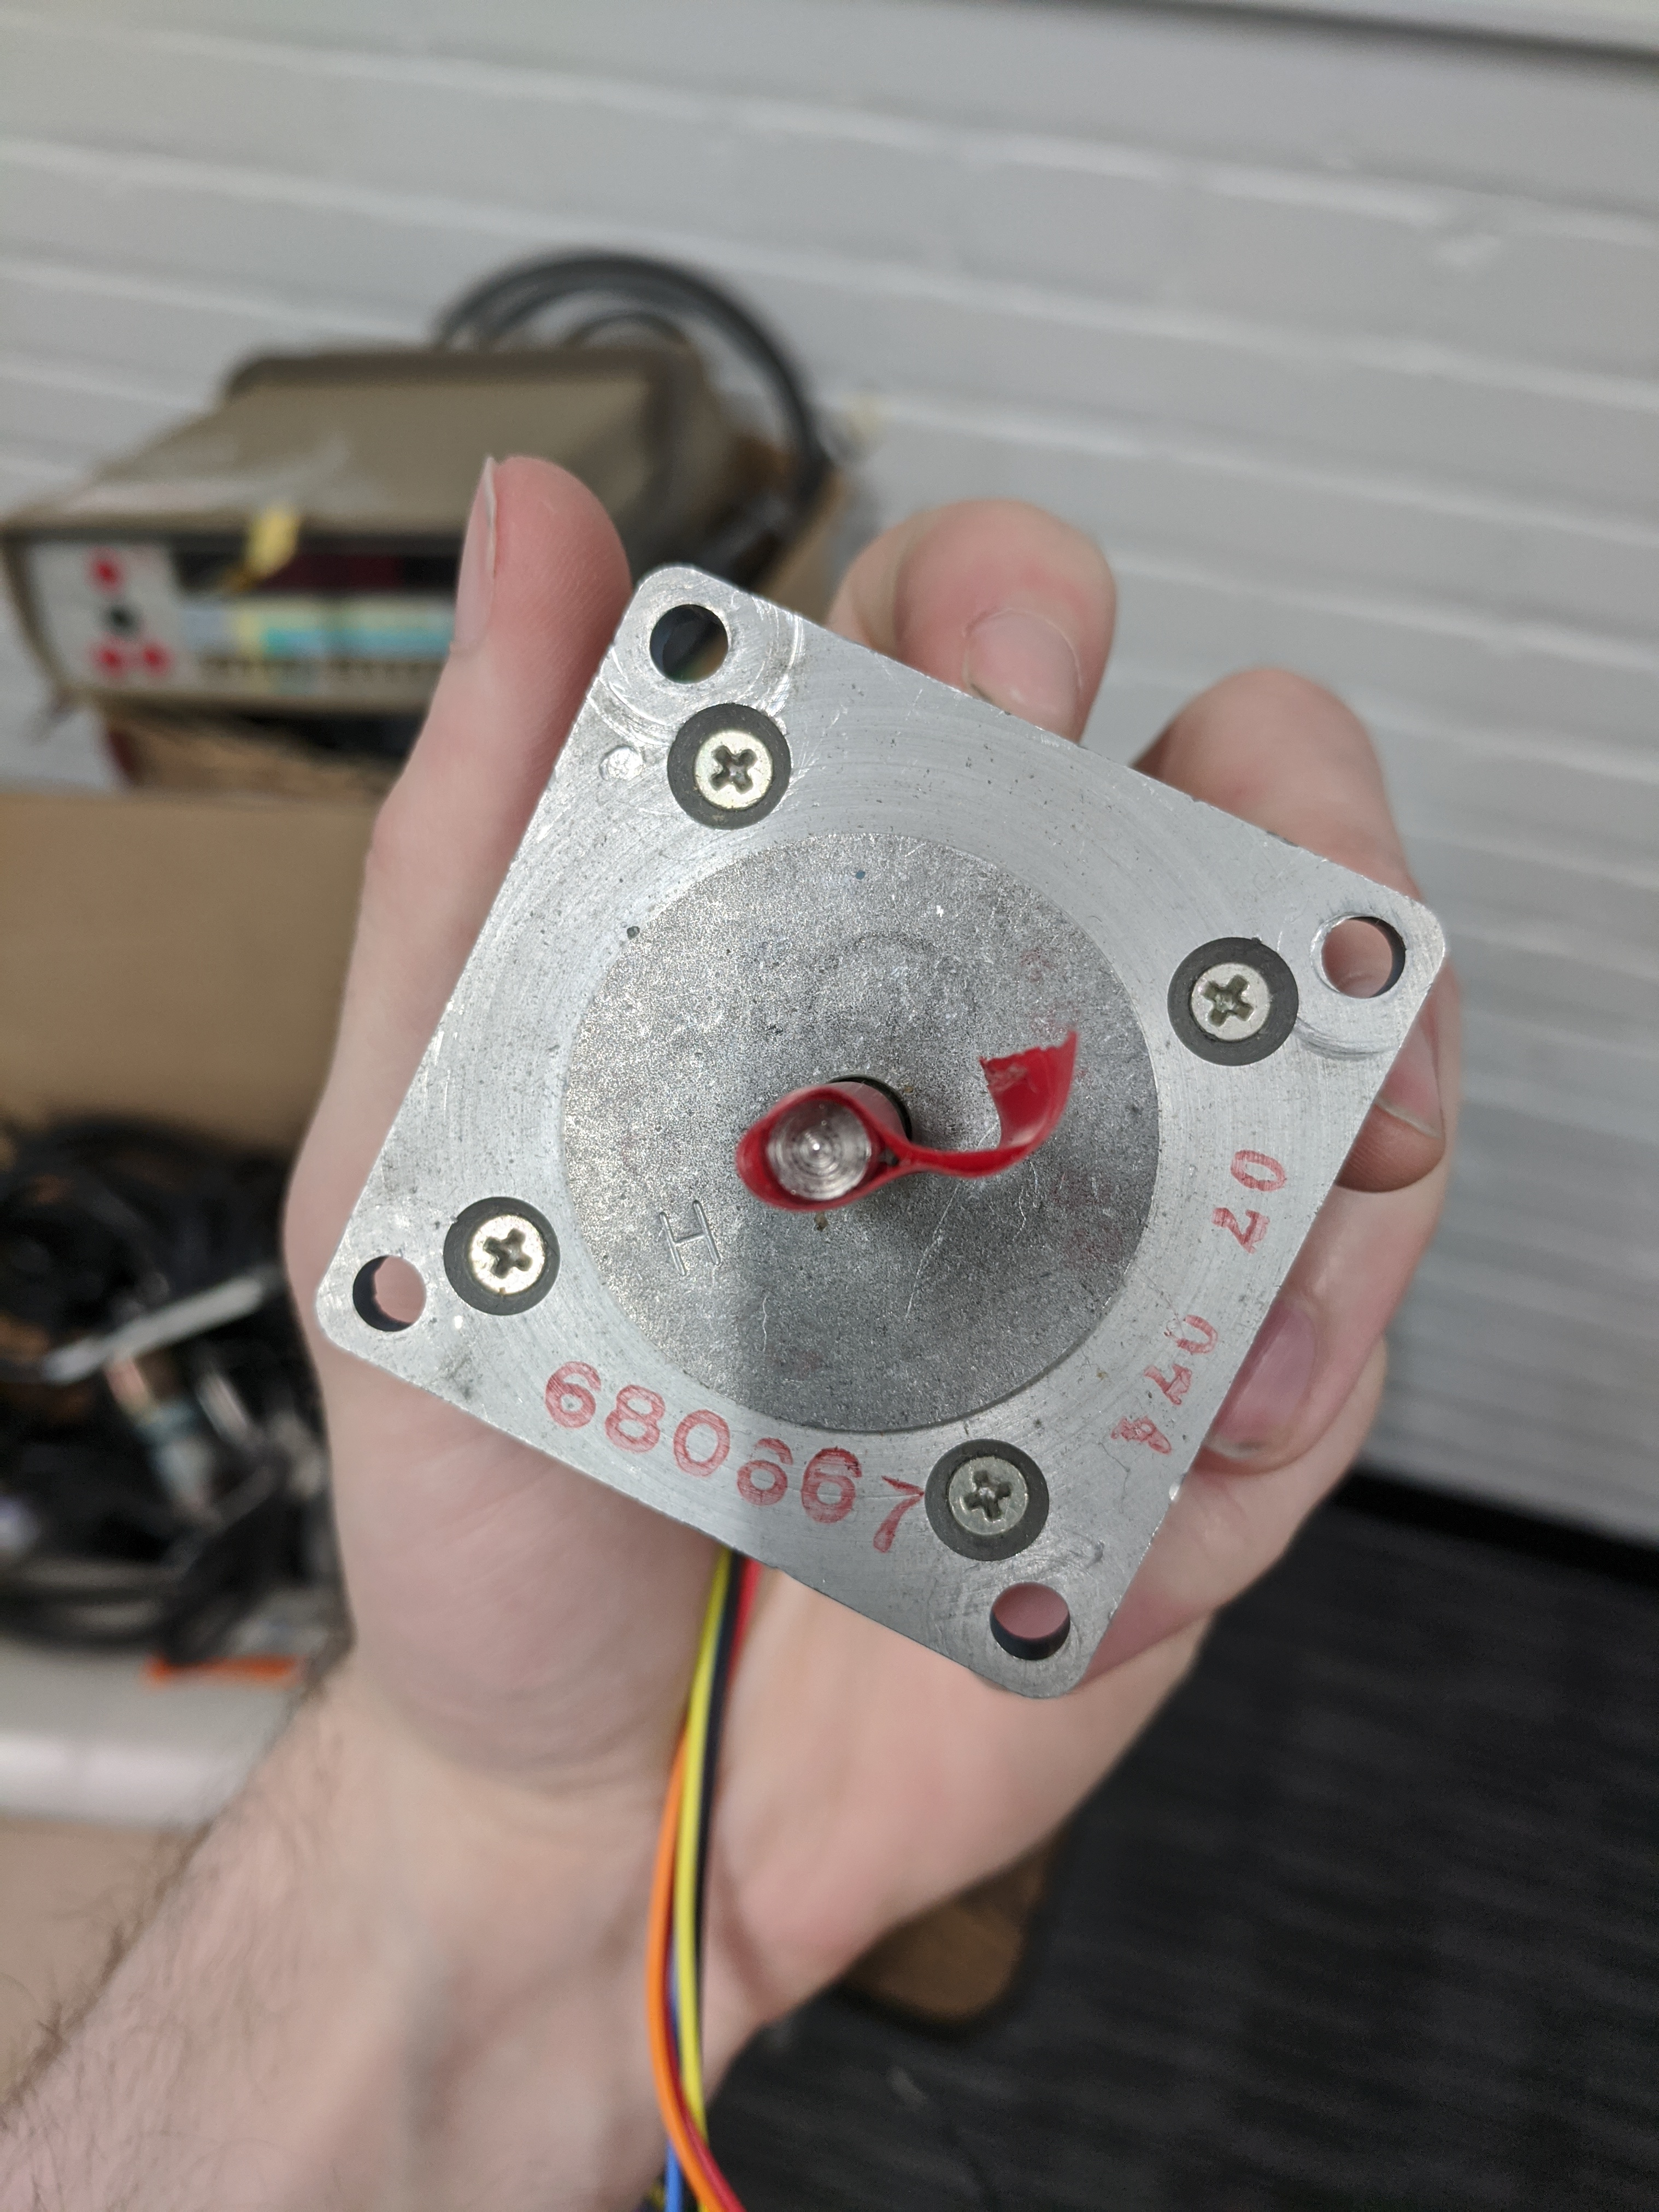cross_recessed_screw: (436, 1202, 570, 1310), (659, 712, 784, 817), (925, 1446, 1032, 1534), (1180, 951, 1267, 1033)
